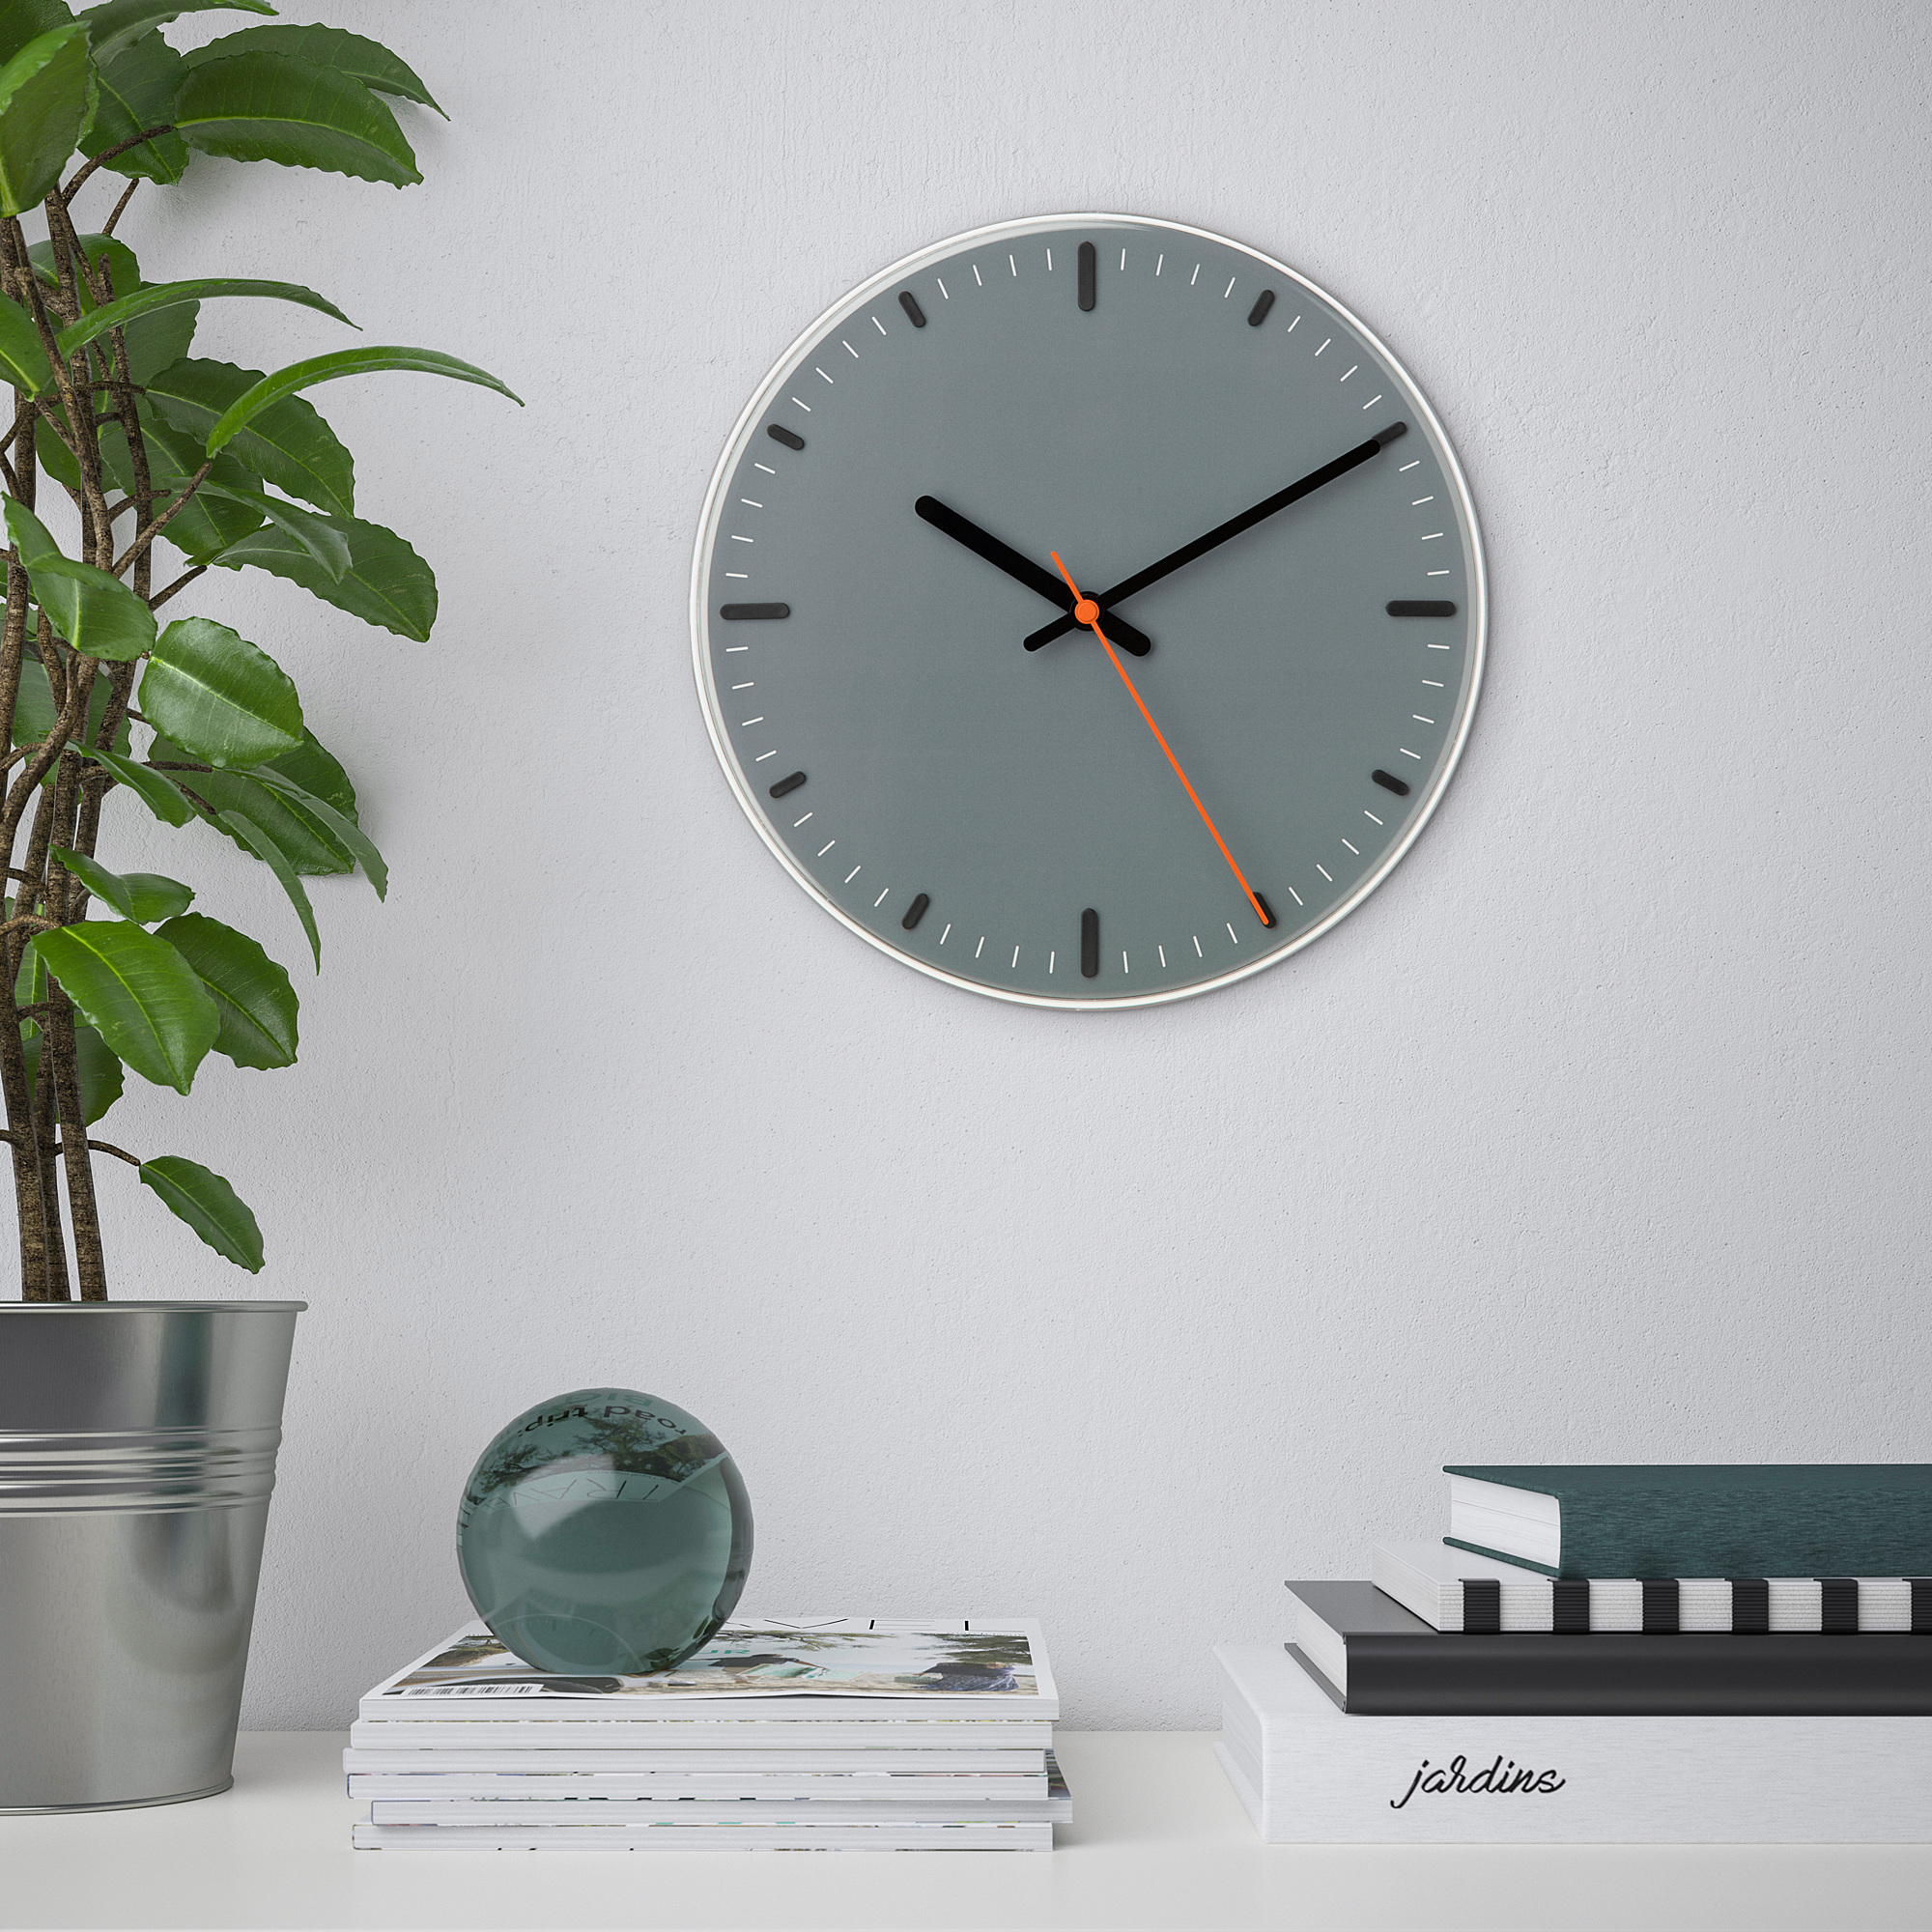jam dinding: (674, 165, 1497, 1072)
